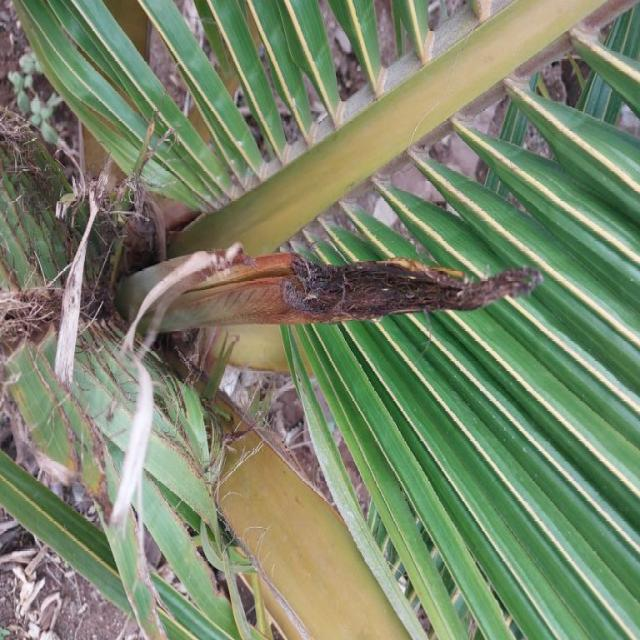bud rot: (116, 243, 541, 342)
